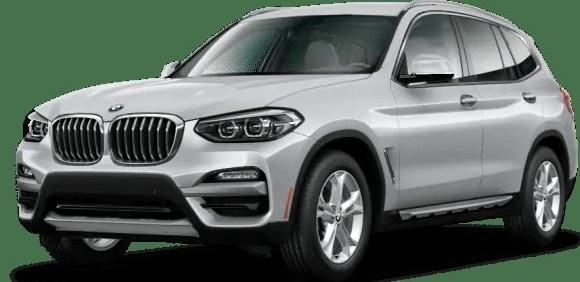SUV: (18, 3, 579, 282)
